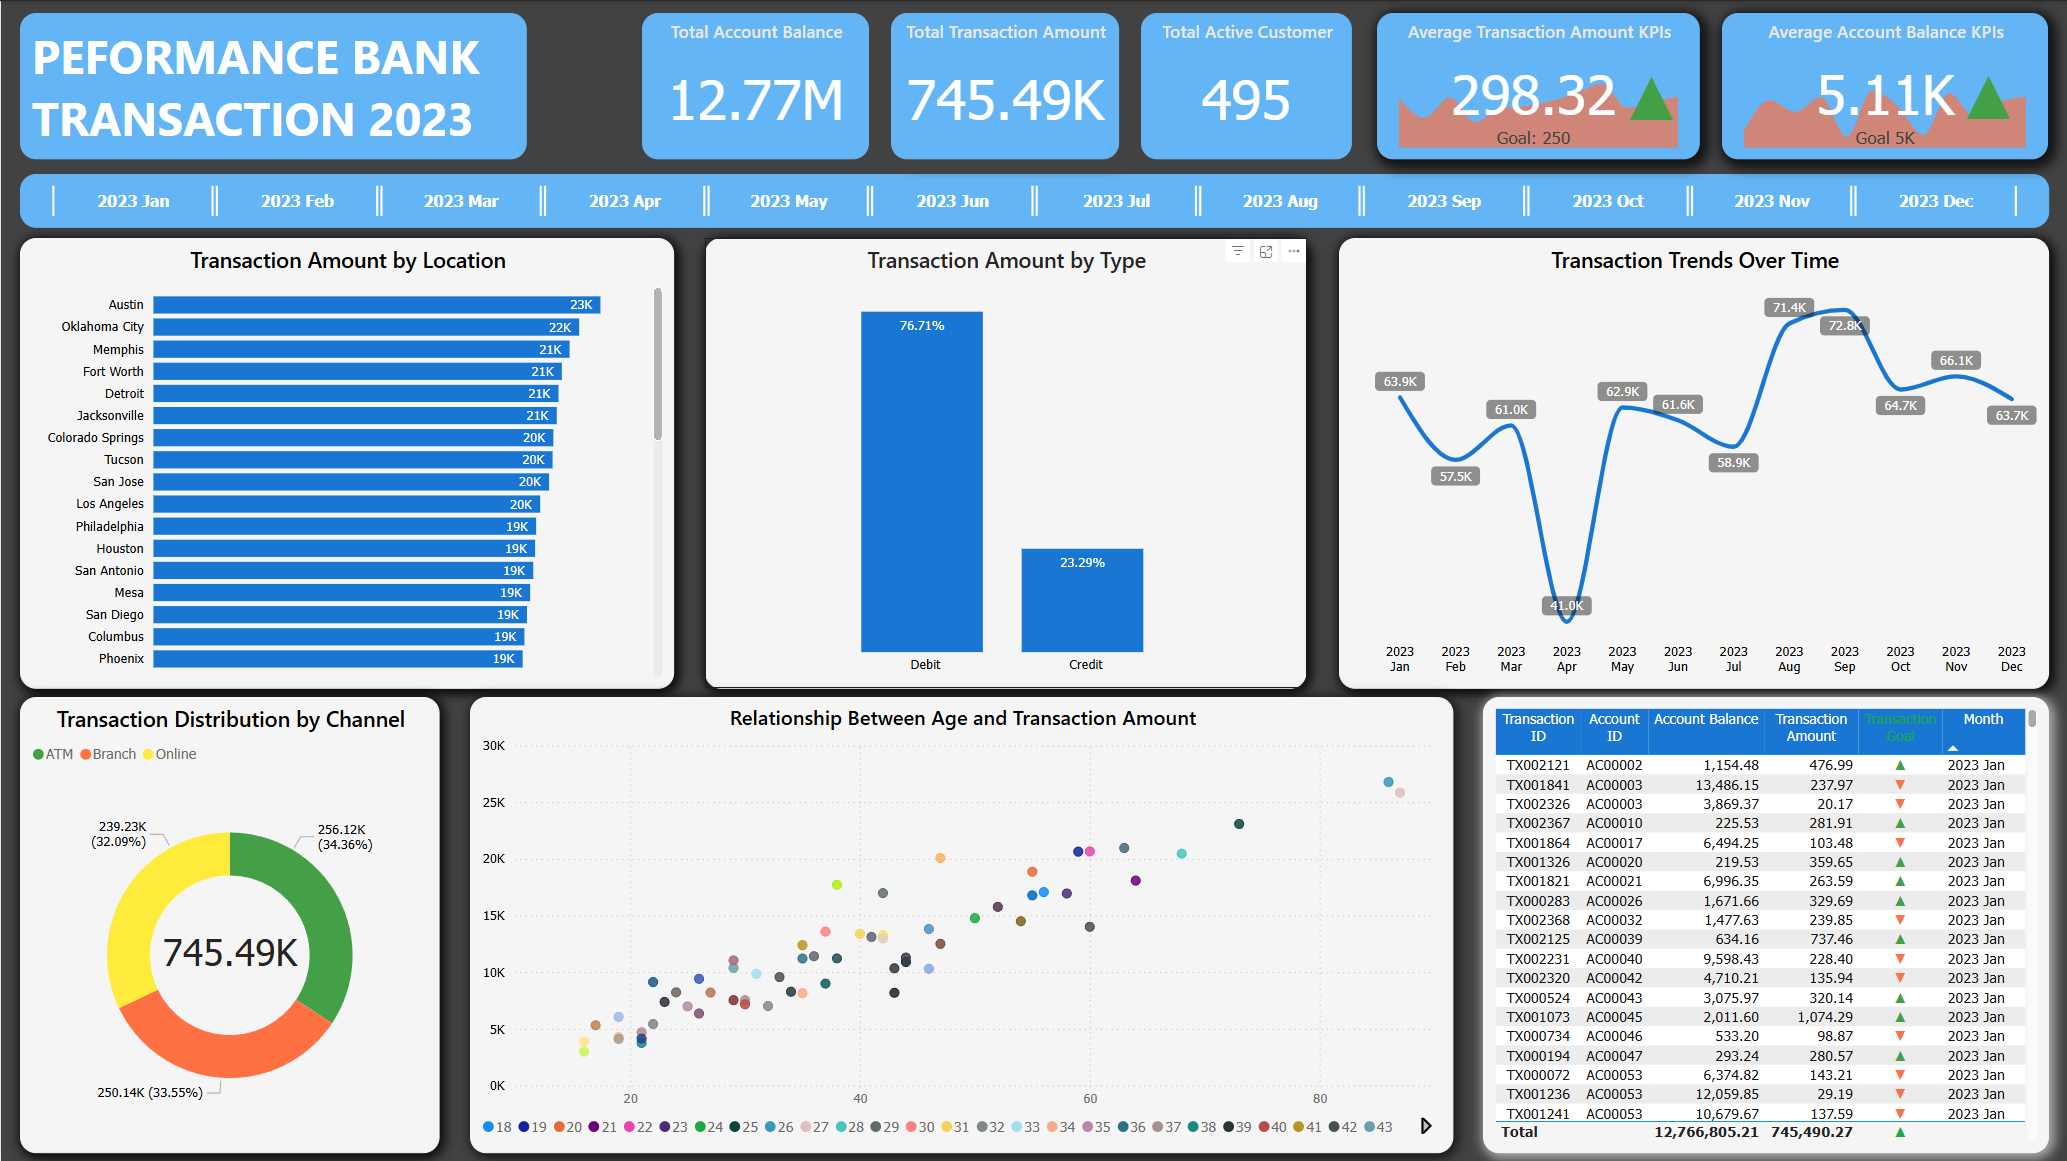

This screenshot's page, from the dashboard's own definition file:
{"tool":"powerbi","page":{"name":"Review","canvas":[1920,1080],"ordinal":0},"visuals":[{"type":"lineChart","title":"Average Account Balance KPIs","fields":{"Category":["Data.Month"],"Y":["Measure.AVG Account Balance"]},"box":[1600,11,303,136],"z":0,"group":"g1"},{"type":"columnChart","title":"Transaction Amount by Type","fields":{"Y":["Sum(Data.TransactionAmount)"],"Category":["Data.TransactionType"]},"box":[654.7,220,558.9,418.9],"z":0},{"type":"card","title":"Total Active Customer","fields":{"Values":["Count(Data.AccountID)"]},"box":[1060,11,196,136],"z":1000},{"type":"lineChart","title":"Average Transaction Amount KPIs","fields":{"Category":["Data.Month"],"Y":["Measure.AVG Transaction Amount"]},"box":[1279,11,300.1,136],"z":1000,"group":"g3"},{"type":"card","title":"Average Account Balance Key Performance Indicators (KPIs)","fields":{"Values":["Avg(Data.AccountBalance)"]},"box":[1600,47.7,303.3,93.3],"z":1000,"group":"g1"},{"type":"card","fields":{"Values":["Data.Icon 1"]},"box":[1805.4,45.5,84.4,78.8],"z":3000,"group":"g1"},{"type":"card","title":"Average Account Balance Key Performance Indicators (KPIs)","fields":{"Values":["Measure.AVG Transaction Amount"]},"box":[1272.7,47.7,304.2,94.2],"z":4000,"group":"g3"},{"type":"lineChart","title":"Transaction Trends Over Time","fields":{"Y":["Sum(Data.TransactionAmount)"],"Category":["Data.Month"]},"box":[1243.3,220,660,418.9],"z":4000},{"type":"barChart","title":"Transaction Amount by Location","fields":{"Category":["Data.Location"],"Y":["Sum(Data.TransactionAmount)"]},"box":[17.8,220,607.8,418.9],"z":4250},{"type":"slicer","fields":{"Values":["Data.Month"]},"box":[17.8,161.1,1885.6,50],"z":4500},{"type":"card","fields":{"Values":["Measure.Arrow Format Total Transaction"]},"box":[1490.2,45.5,88.1,79.9],"z":5000,"group":"g3"},{"type":"scatterChart","title":"Relationship Between Age and Transaction Amount","fields":{"X":["CountNonNull(Data.CustomerAge)"],"Y":["Sum(Data.TransactionAmount)"],"Series":["Data.CustomerAge"]},"box":[435.6,646.7,914.4,424.4],"z":5000},{"type":"tableEx","title":"Transaction Details","fields":{"Values":["Data.TransactionID","Data.AccountID","Sum(Data.AccountBalance)","Sum(Data.TransactionAmount)","Measure.Arrow Format Total Transaction","Data.Month"]},"box":[1377.8,646.7,525.6,424.4],"z":6000},{"type":"textbox","box":[18,11,471,136],"z":7000},{"type":"group","id":"g1","title":"Group 1","box":[1600,11,303.3,136],"z":8000},{"type":"donutChart","title":"Transaction Distribution by Channel","fields":{"Category":["Data.Channel"],"Y":["Sum(Data.TransactionAmount)"]},"box":[17.8,646.7,390,424.4],"z":8000,"group":"g2"},{"type":"card","title":"Total Transaction Amount","fields":{"Values":["Sum(Data.TransactionAmount)"]},"box":[827,11,212,136],"z":9000},{"type":"card","title":"Total Account Balance","fields":{"Values":["Sum(Data.AccountBalance)"]},"box":[596,11,211,136],"z":10000},{"type":"group","id":"g2","title":"Group 2","box":[17.8,646.7,390,424.4],"z":12000},{"type":"group","id":"g3","title":"Group 3","box":[1272.7,11,306.3,136],"z":13000},{"type":"card","title":"Average Account Balance Key Performance Indicators (KPIs)","fields":{"Values":["Sum(Data.TransactionAmount)"]},"box":[142.6,859,141.3,49.3],"z":15501,"group":"g2"}]}

Visuals, with their boxes in screenshot pixels (x1, y1, x2, y2), scaled from the page's 1920x1080 canvas onto the 2067x1161 screenshot:
"Average Account Balance KPIs" lineChart: [1723, 12, 2049, 158]
"Transaction Amount by Type" columnChart: [705, 236, 1307, 687]
"Total Active Customer" card: [1141, 12, 1352, 158]
"Average Transaction Amount KPIs" lineChart: [1377, 12, 1700, 158]
"Average Account Balance Key Performance Indicators (KPIs)" card: [1723, 51, 2049, 152]
card - Data.Icon 1: [1944, 49, 2034, 134]
"Average Account Balance Key Performance Indicators (KPIs)" card: [1370, 51, 1698, 153]
"Transaction Trends Over Time" lineChart: [1338, 236, 2049, 687]
"Transaction Amount by Location" barChart: [19, 236, 673, 687]
slicer - Data.Month: [19, 173, 2049, 227]
card - Measure.Arrow Format Total Transaction: [1604, 49, 1699, 135]
"Relationship Between Age and Transaction Amount" scatterChart: [469, 695, 1453, 1151]
"Transaction Details" tableEx: [1483, 695, 2049, 1151]
textbox: [19, 12, 526, 158]
"Group 1" group: [1723, 12, 2049, 158]
"Transaction Distribution by Channel" donutChart: [19, 695, 439, 1151]
"Total Transaction Amount" card: [890, 12, 1119, 158]
"Total Account Balance" card: [642, 12, 869, 158]
"Group 2" group: [19, 695, 439, 1151]
"Group 3" group: [1370, 12, 1700, 158]
"Average Account Balance Key Performance Indicators (KPIs)" card: [154, 923, 306, 976]
